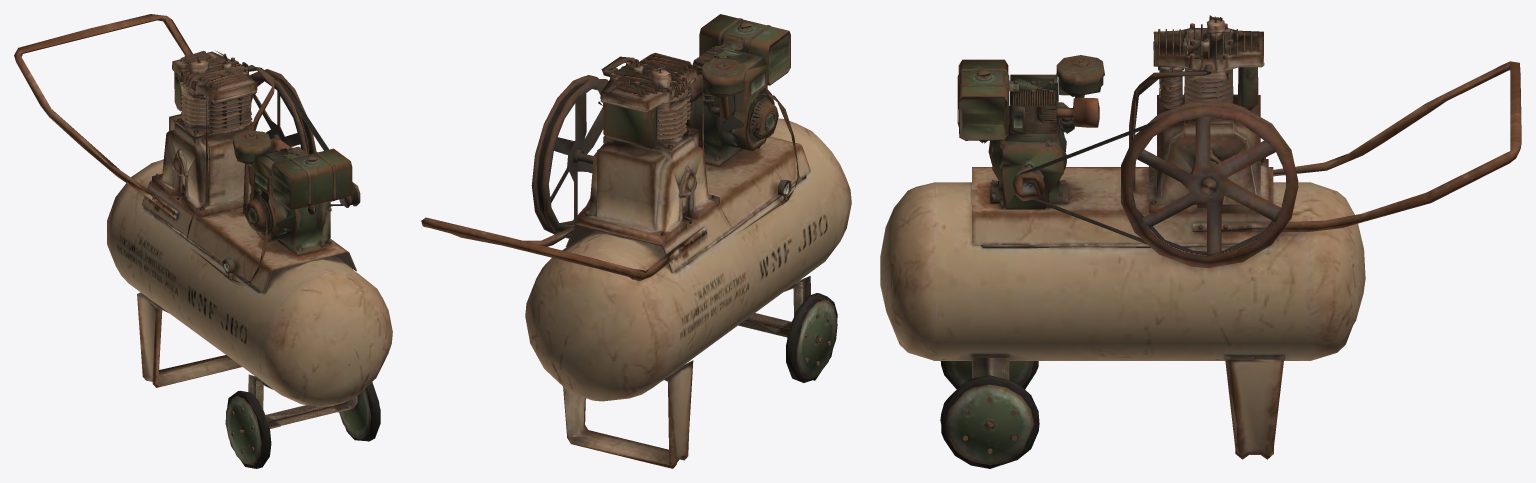
The model's file is old_military_compressor.glb.
3 renders of one model, left to right at view 1: azimuth 30°, elevation 25°; view 2: azimuth 150°, elevation 25°; view 3: azimuth 270°, elevation 25°, orthographic. The views are drawn at different scales.
Visible parts, largest first — view 1: old_military_compressor; view 2: old_military_compressor; view 3: old_military_compressor.
Part boxes in pixels (box(x1,y1,x2,y2)): old_military_compressor: box(14, 14, 392, 468); old_military_compressor: box(421, 14, 851, 468); old_military_compressor: box(880, 15, 1521, 468).
Size of the model in its own units: 0.5956 by 1.18 by 1.67.
2 materials, 2 textured.
